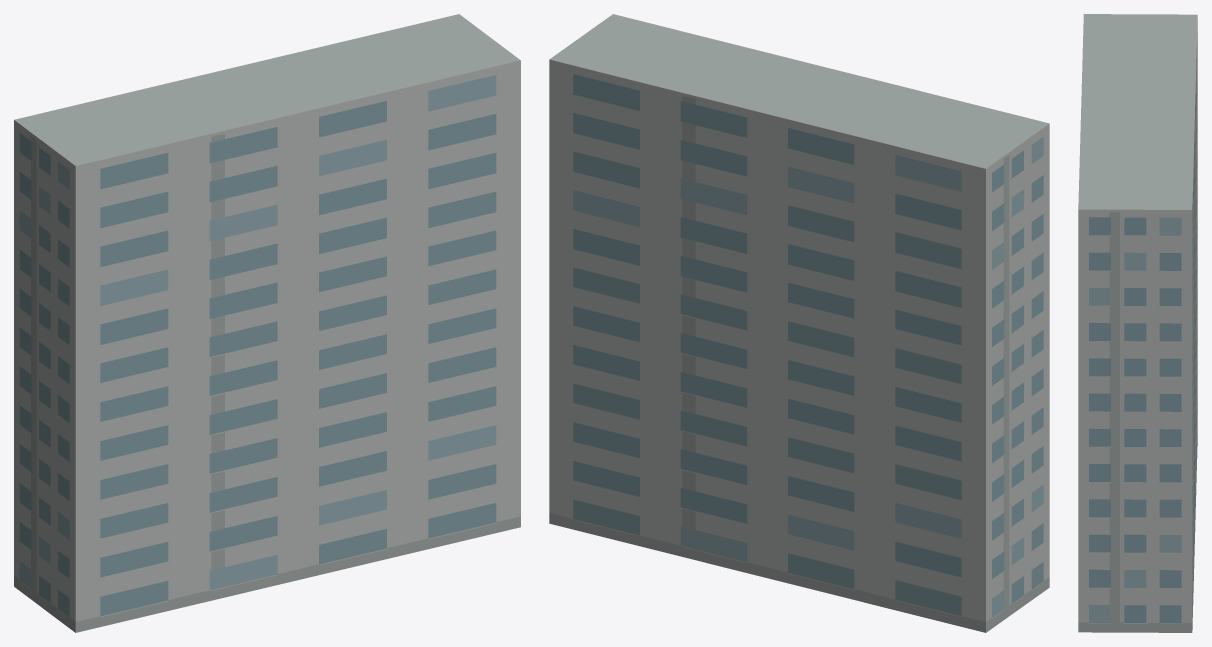
The model's file is residential-a4f75597-2f01-4637-bc14-b5394876af0f.glb.
3 renders of one model, left to right at view 1: azimuth 30°, elevation 25°; view 2: azimuth 150°, elevation 25°; view 3: azimuth 270°, elevation 25°, orthographic. The views are drawn at different scales.
Parts seen in each view (by area): view 1: residential-a4f75597-2f01-4637-bc14-b5394876af0f.tmp; view 2: residential-a4f75597-2f01-4637-bc14-b5394876af0f.tmp; view 3: residential-a4f75597-2f01-4637-bc14-b5394876af0f.tmp.
Part boxes in pixels (box(x1,y1,x2,y2)): residential-a4f75597-2f01-4637-bc14-b5394876af0f.tmp: box(14, 14, 520, 632); residential-a4f75597-2f01-4637-bc14-b5394876af0f.tmp: box(549, 14, 1049, 632); residential-a4f75597-2f01-4637-bc14-b5394876af0f.tmp: box(1078, 14, 1197, 632).
Bounding box in the file's own units: 39.78 × 40 × 10.24.
